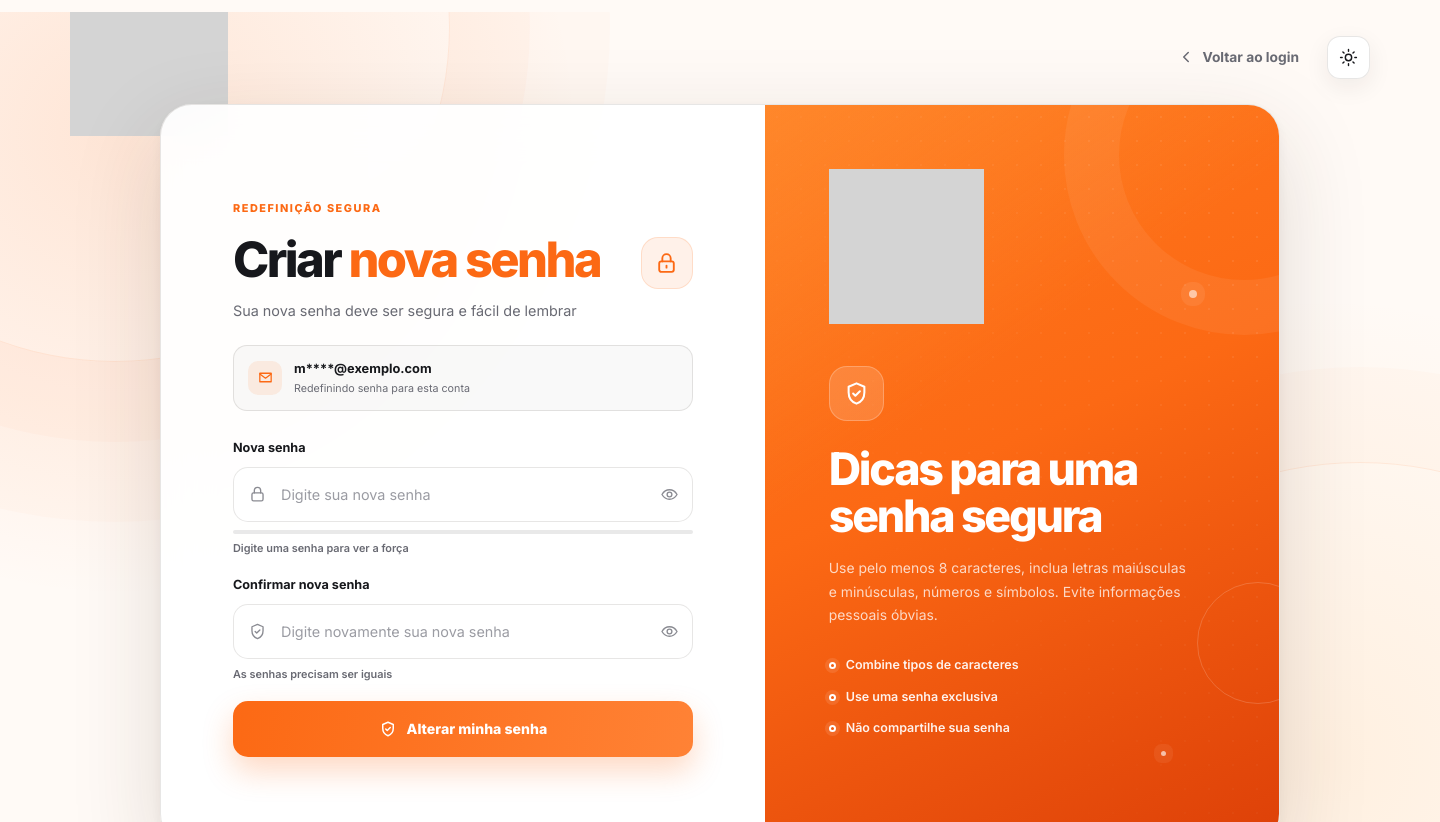
Test case: experiência de recuperação de senha › bloqueia senhas curtas ou divergentes
Type "curta" into the password field labelled "Nova senha".
click(464, 494); type("curta")  # box x1=281 y1=468 x2=648 y2=521
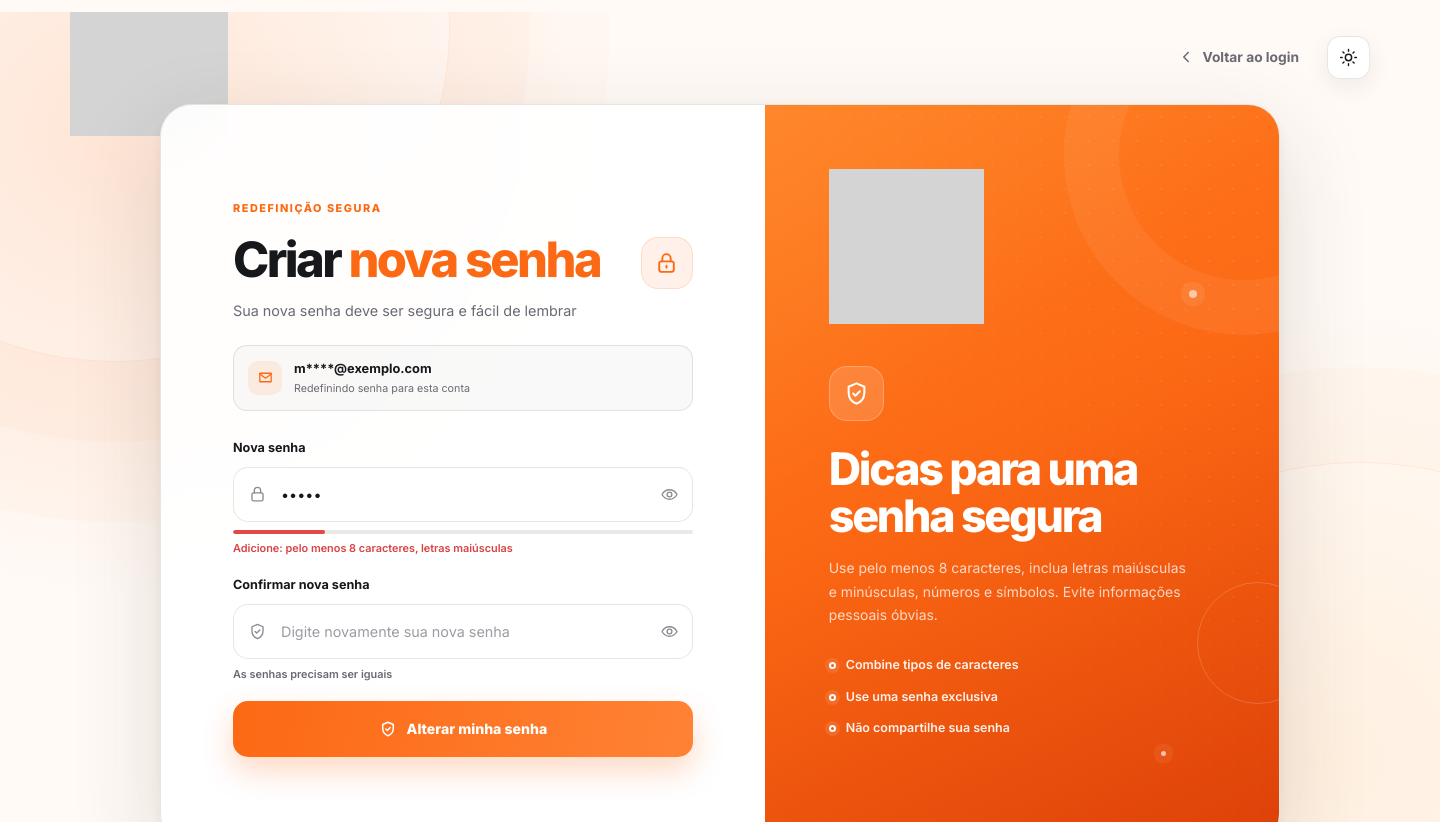
Type "outra" into the password field labelled "Confirmar nova senha".
click(464, 631); type("outra")  # box x1=281 y1=605 x2=648 y2=658
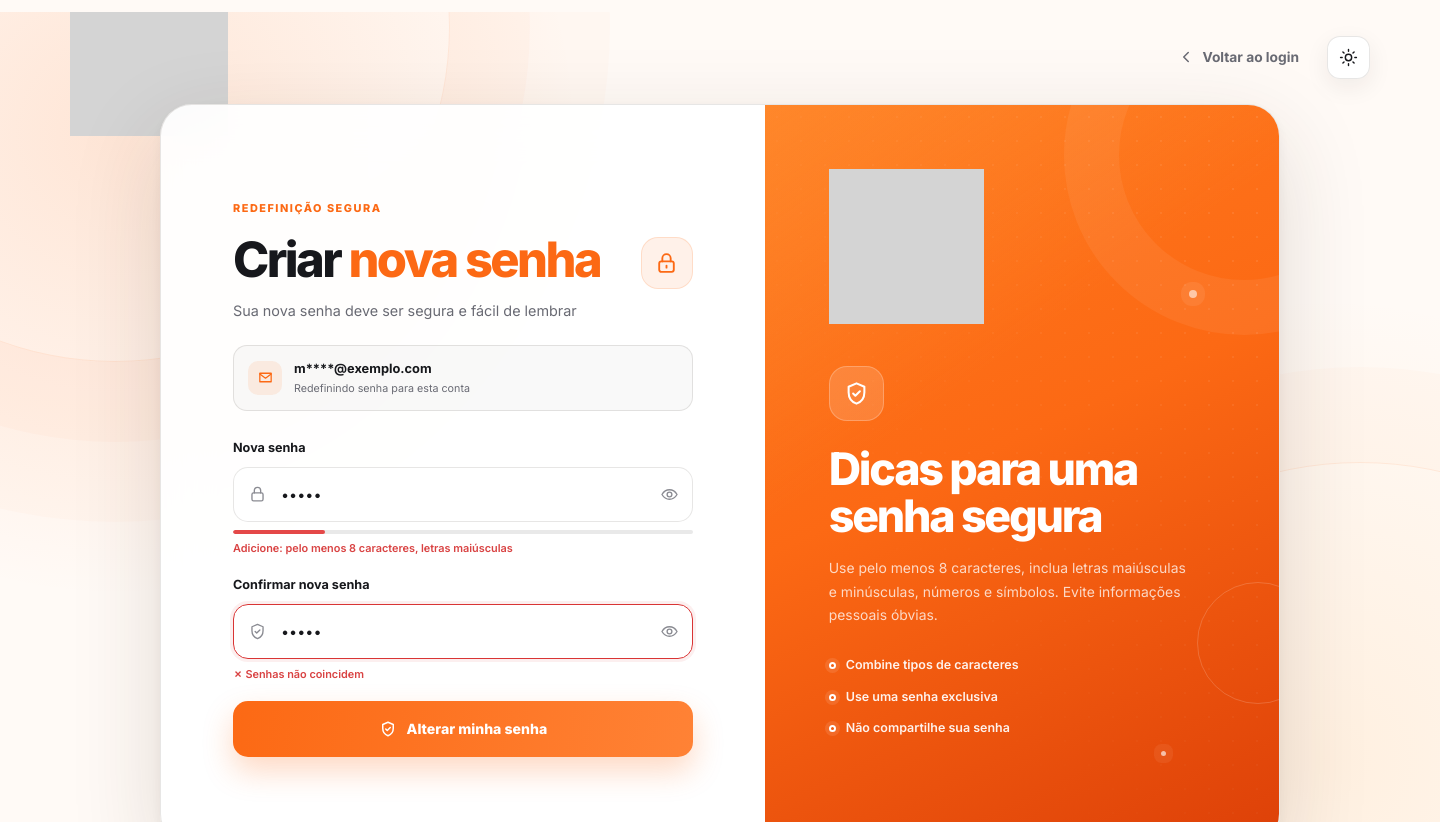
Click the button "Alterar minha senha".
click(463, 729)  # box x1=233 y1=701 x2=693 y2=757
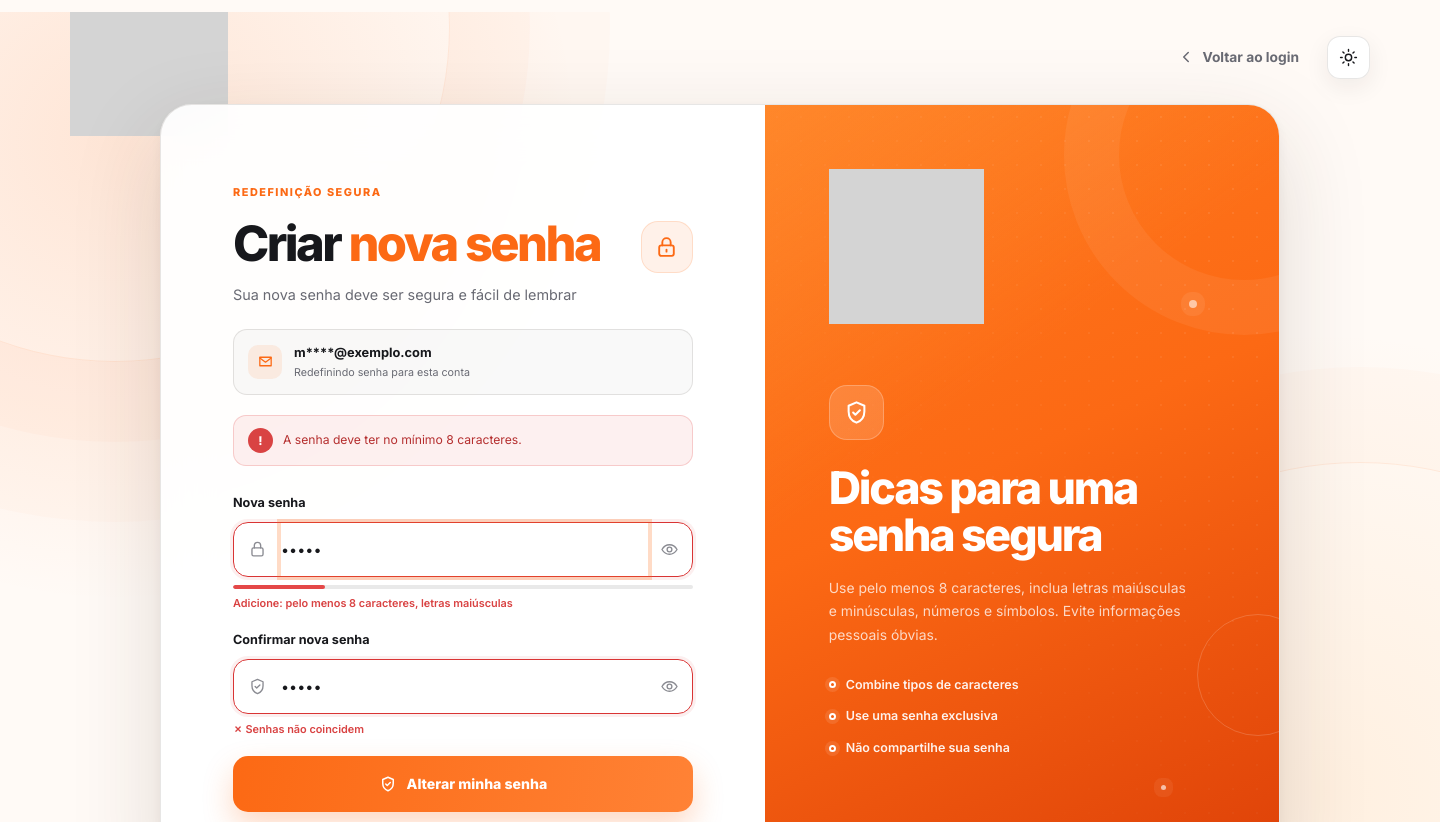
Now the message shows "A senha deve ter no mínimo 8 caracteres.", box x1=283 y1=432 x2=522 y2=447
Type "Senha@123" into the password field labelled "Nova senha".
click(464, 549); type("Senha@123")  # box x1=281 y1=522 x2=648 y2=576
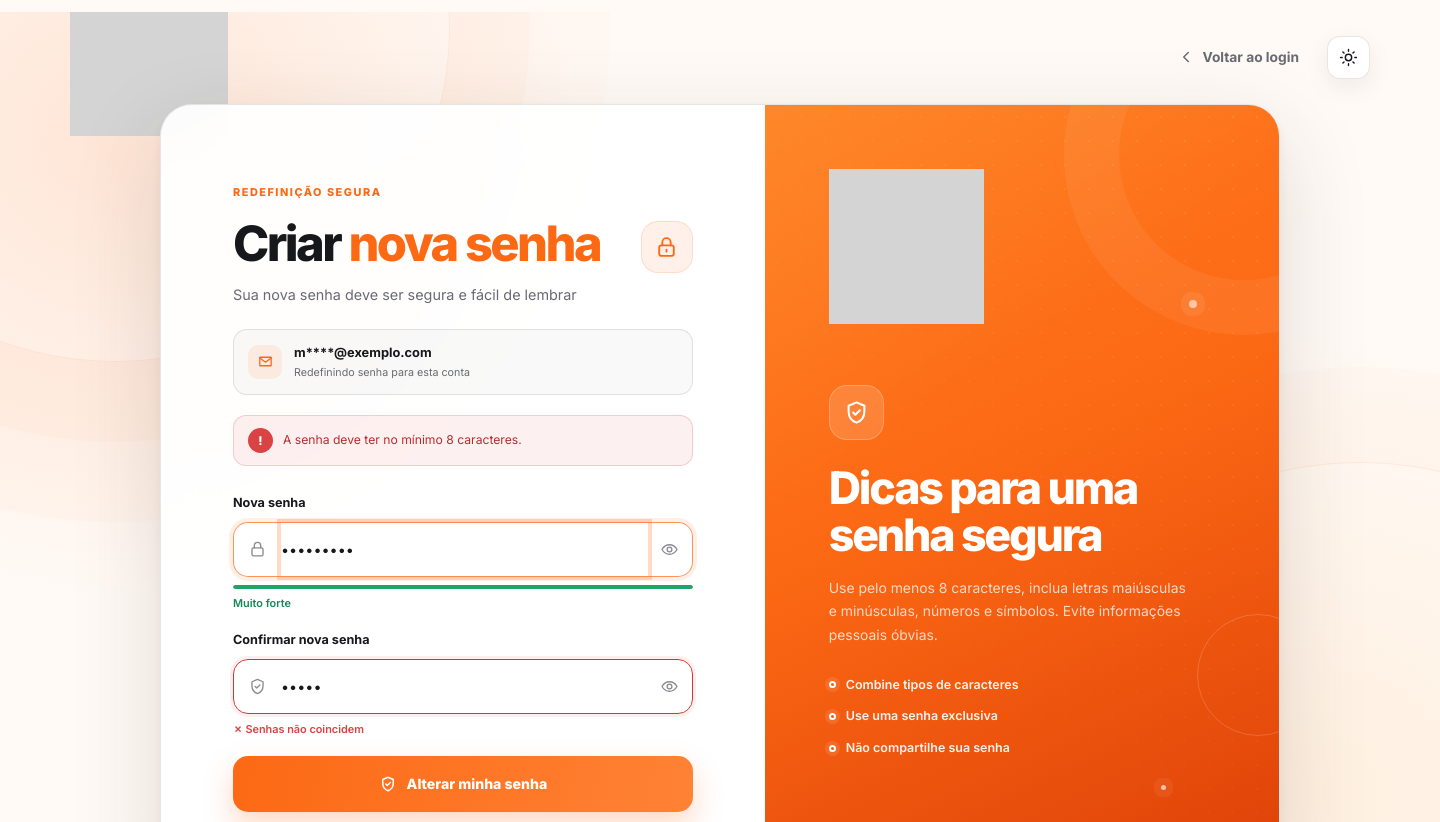
Click the button "Alterar minha senha".
click(463, 784)  # box x1=233 y1=756 x2=693 y2=812
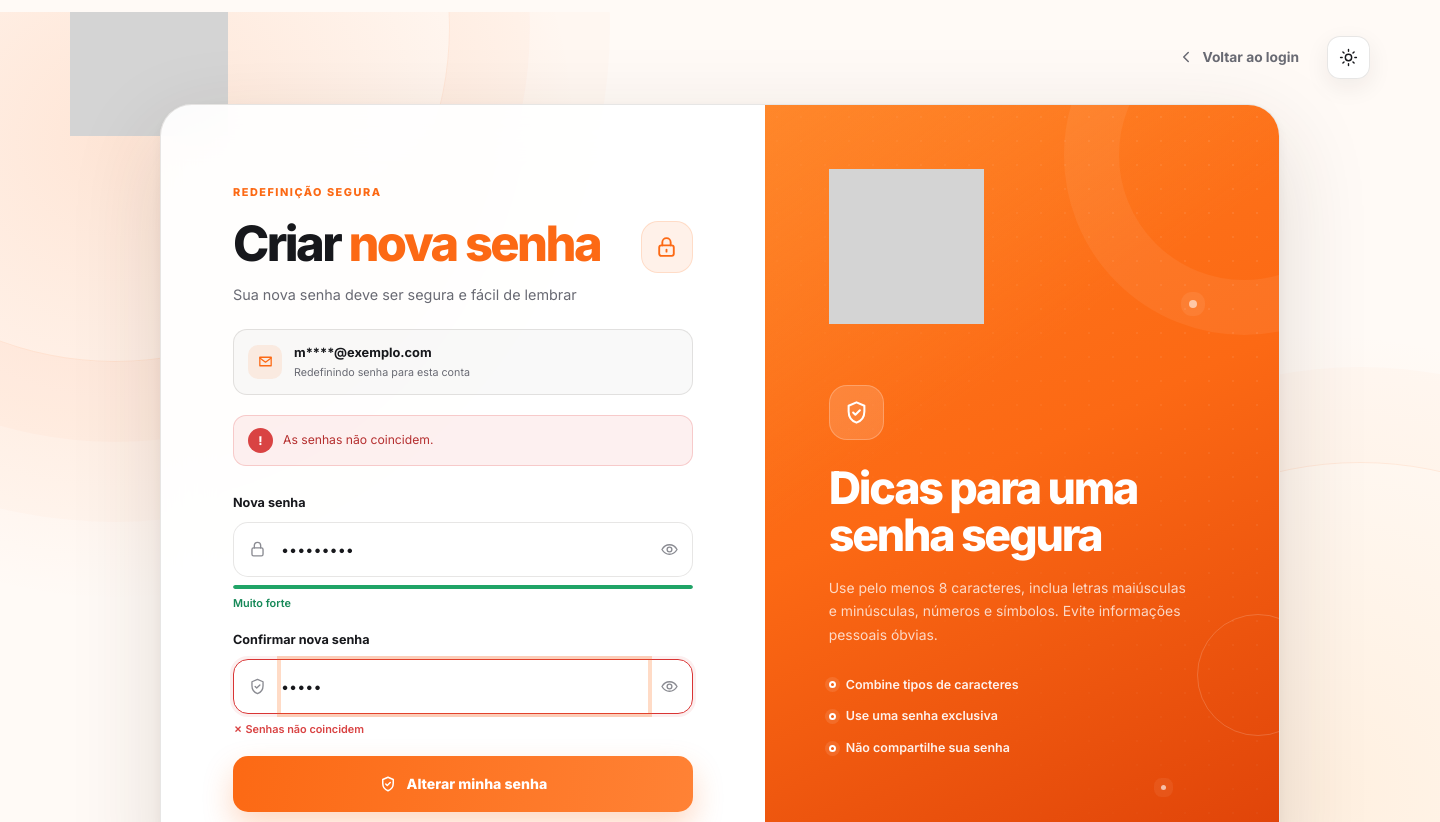
Now the message shows "As senhas não coincidem.", box x1=283 y1=432 x2=433 y2=447
